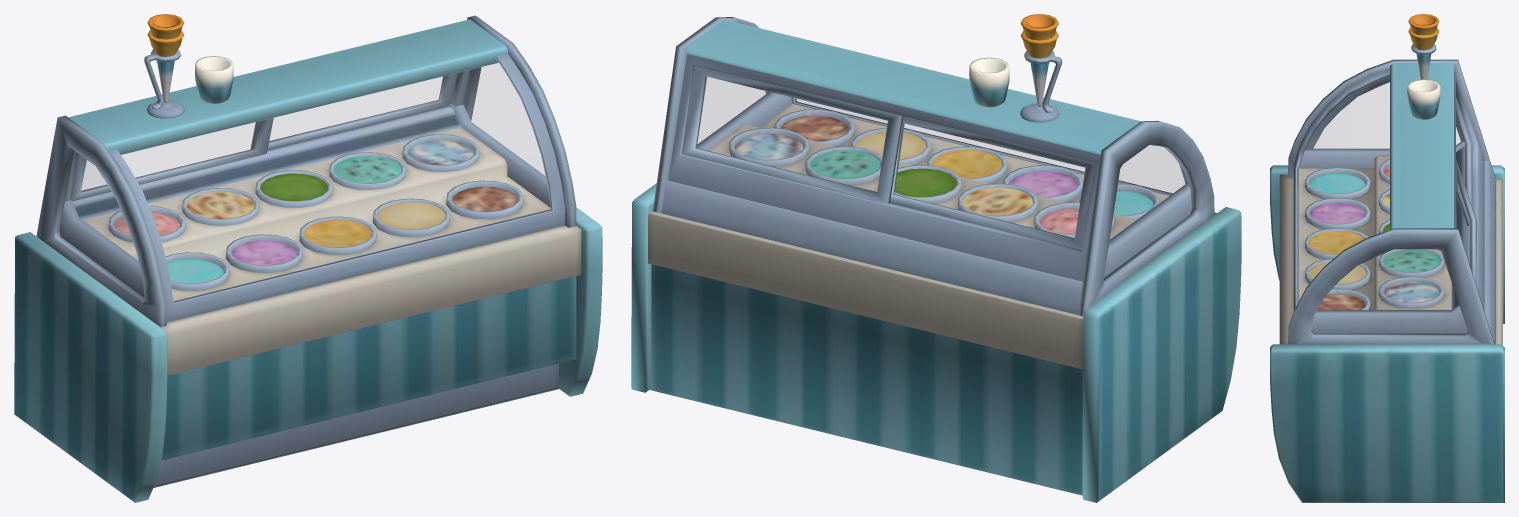
The picture shows the model from 3 angles, left to right: view 1: azimuth 30°, elevation 25°; view 2: azimuth 150°, elevation 25°; view 3: azimuth 270°, elevation 25°; orthographic projection. The views are drawn at different scales.
Size of the model in its own units: 17.59 by 15.01 by 9.38.
Materials: 3 (3 with a texture image).
